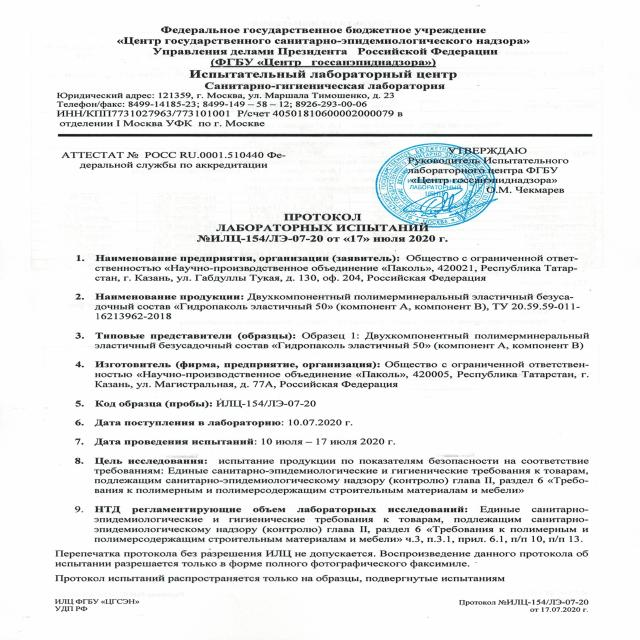stamps: (348, 142, 539, 261)
